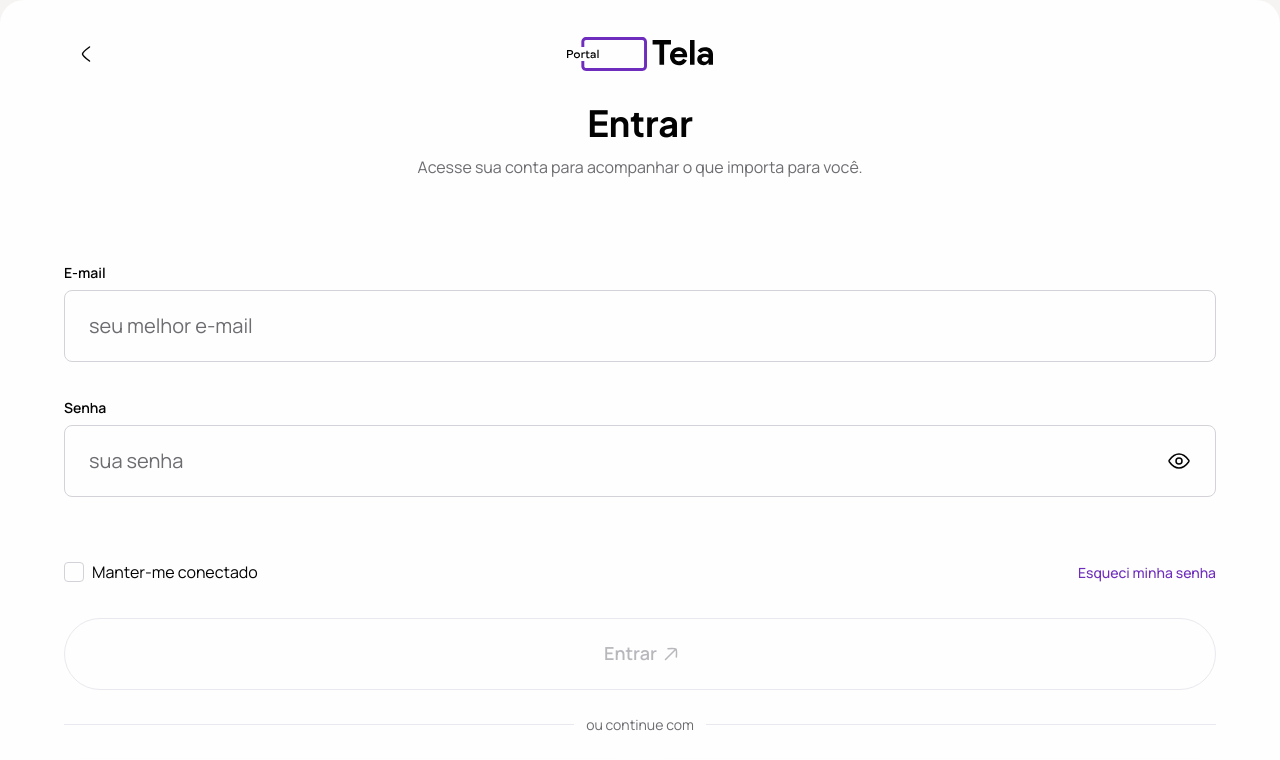
Test case: LoginPage › valida o e-mail ao sair do campo, não a cada tecla
Type "ana@" into the field labelled "E-mail" at (640, 326), box [89, 311, 1191, 341]
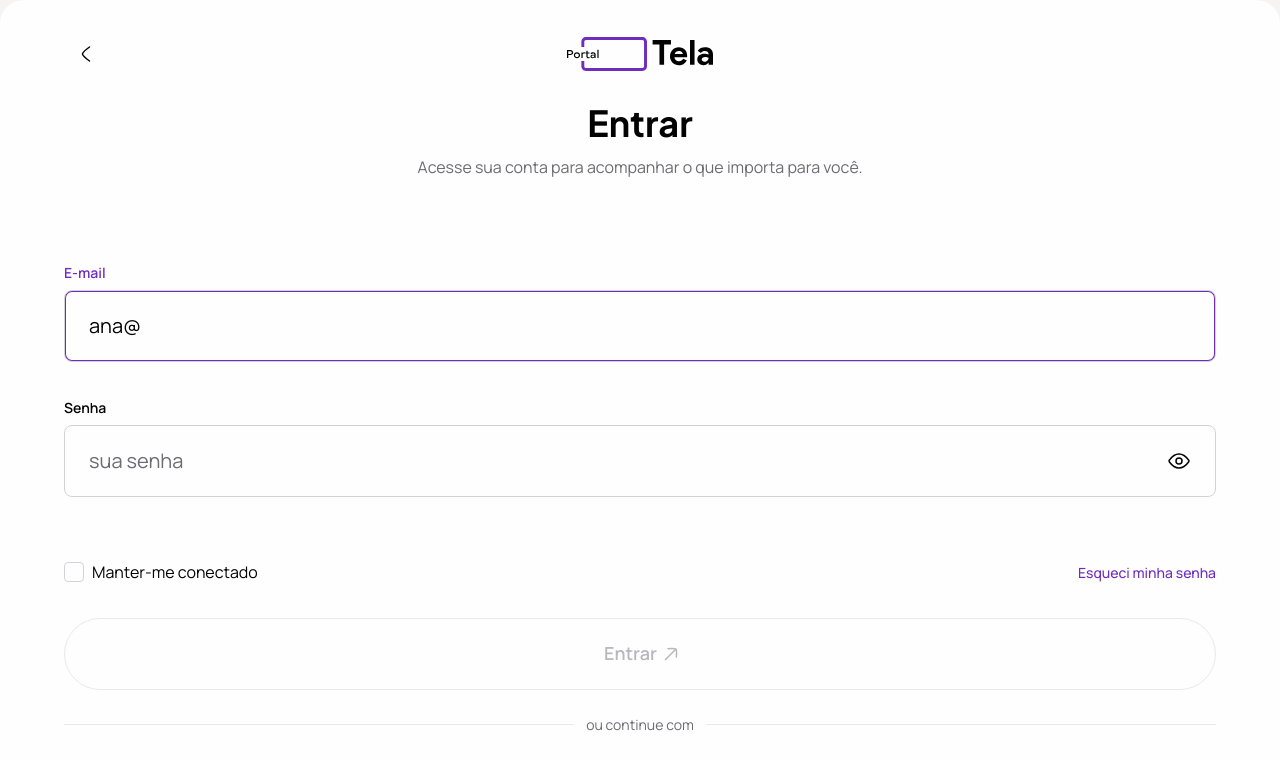
Check: the text "Digite um e-mail válido" is not shown
Press Tab
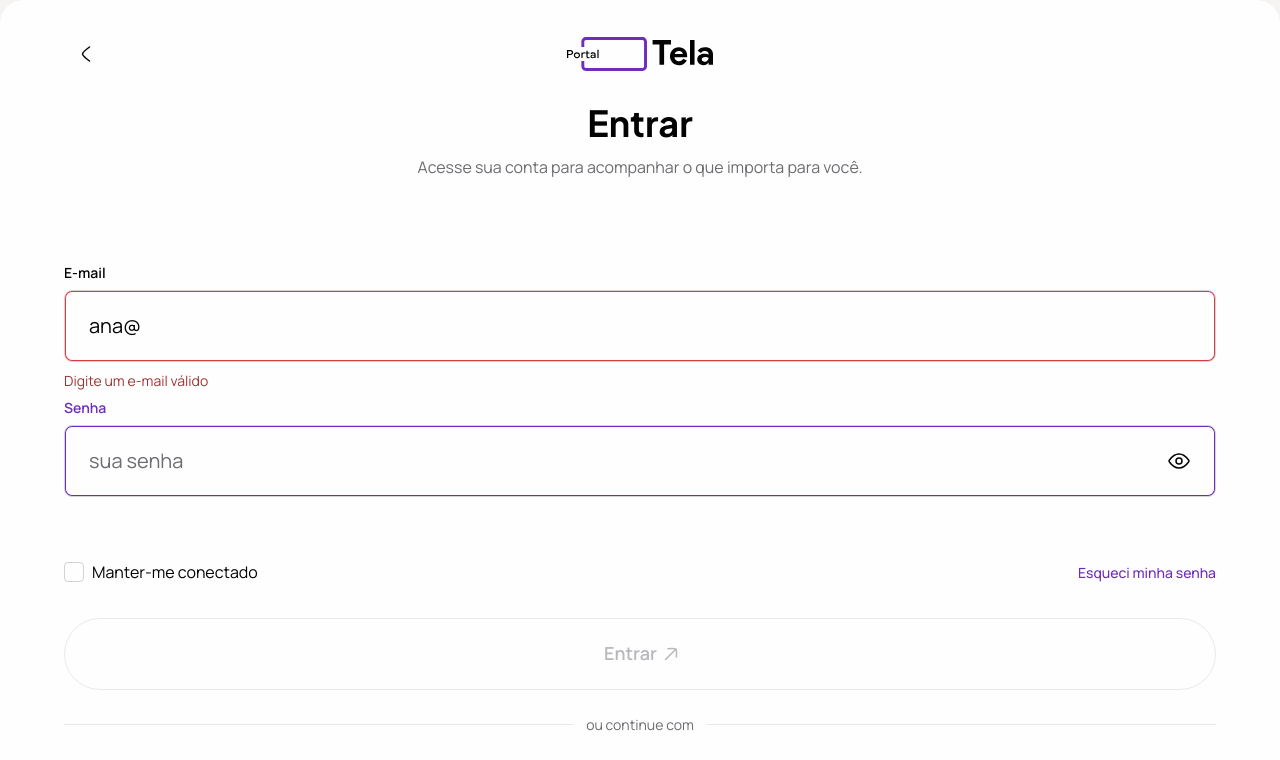
Check: the text "Digite um e-mail válido" is shown, box [64, 371, 208, 390]
Type "email.com" into the field labelled "E-mail" at (640, 326), box [89, 311, 1191, 341]
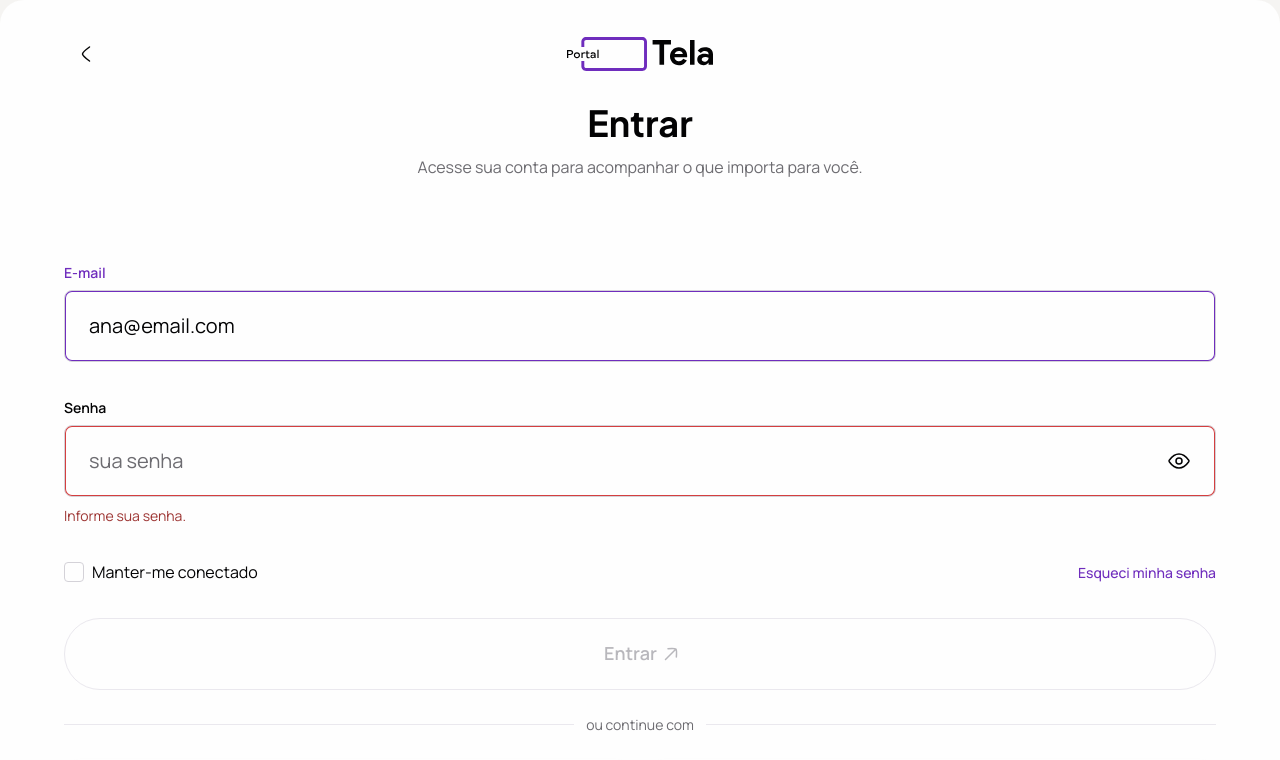
Check: the text "Digite um e-mail válido" is gone
